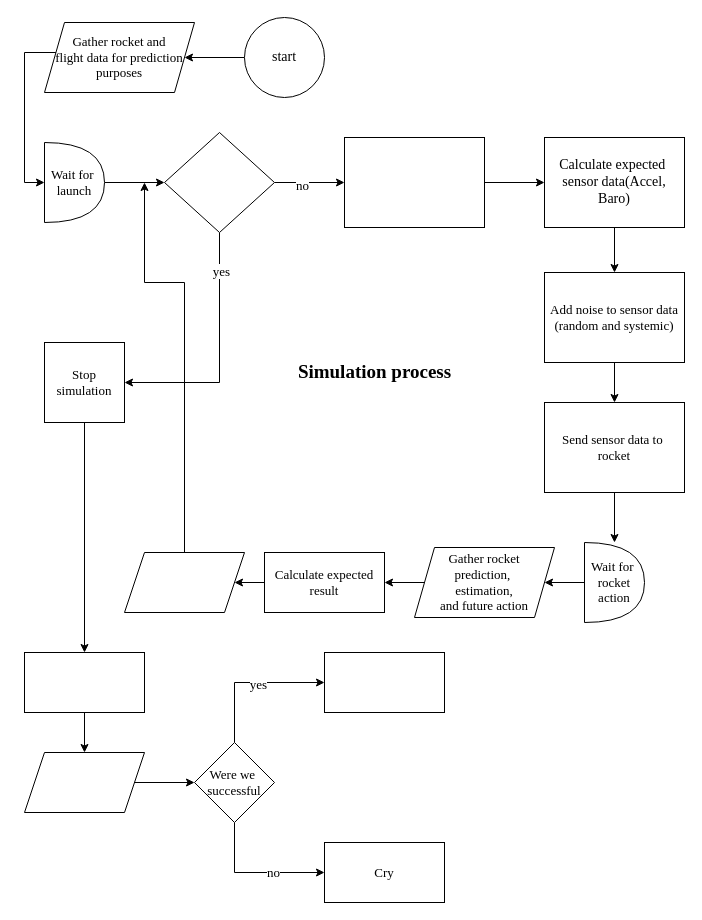
Some shapes in this 702 by 920 pixel diagram are drawn without their labels. Here are the shapes that lost their labels. From the top down, the centre of each, then its label:
At (x=219, y=182): "Has Apogee been reached".
At (x=414, y=182): "Calculate exact location and flight data".
At (x=184, y=582): "Display exact data vs predefined data".
At (x=84, y=682): "Store data for future analysis".
At (x=384, y=682): "Celebrate".
At (x=84, y=782): "Display results".
